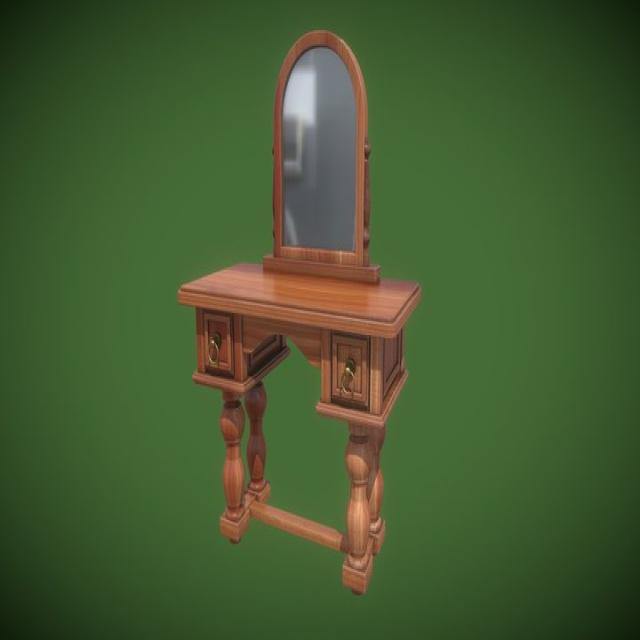table: (180, 262, 419, 602)
